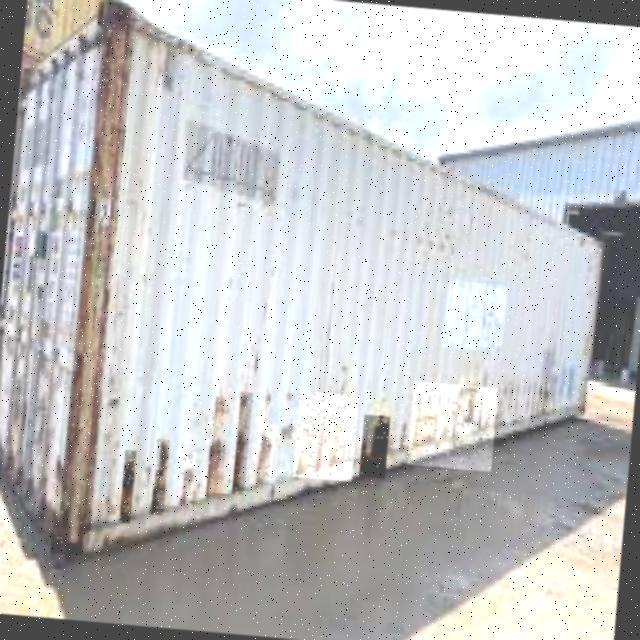Rust: (50, 0, 136, 555), (407, 381, 498, 472), (293, 391, 359, 482), (206, 395, 229, 500), (232, 392, 255, 495), (359, 414, 390, 478), (150, 438, 169, 515), (255, 423, 276, 486), (119, 450, 136, 524), (178, 451, 196, 508)
